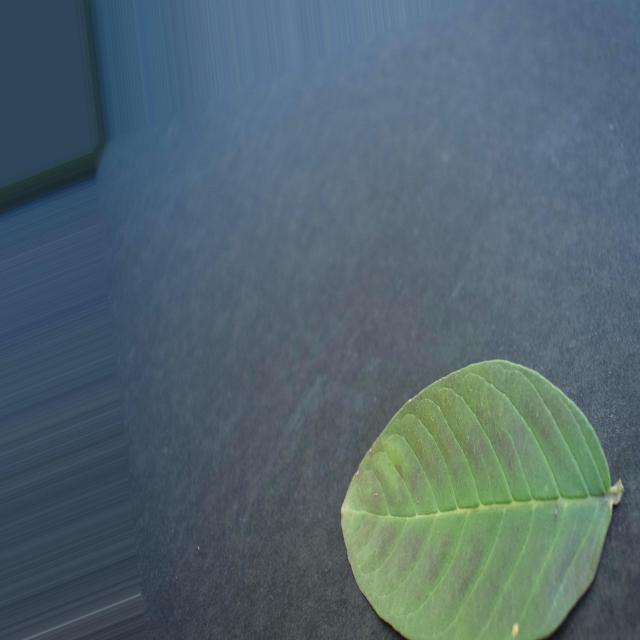Healthy: (341, 362, 624, 638)
